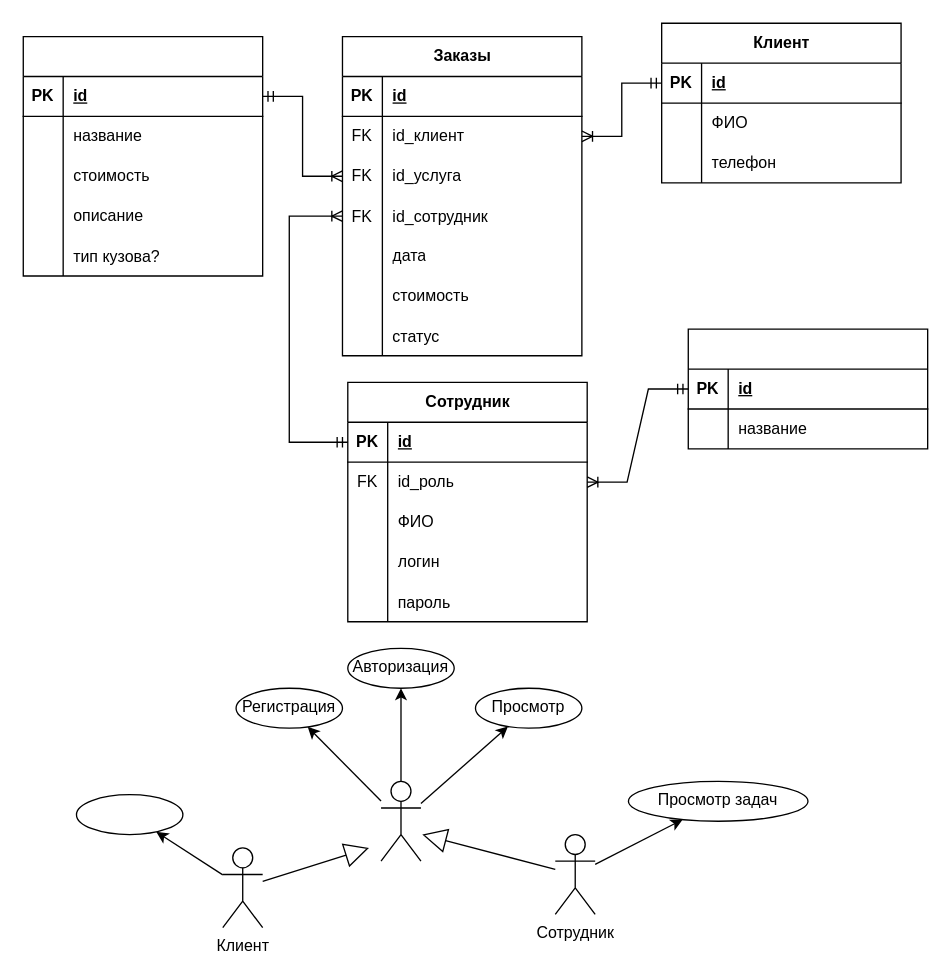
This 951x979 diagram has some shape labels left out. The box of each missing label's shape, as (x1, y1, x2, y2) in pixels:
Гость: (380, 780, 421, 861)
Записаться: (75, 793, 183, 835)
Роль: (687, 328, 928, 449)
Услуги: (22, 35, 263, 276)
